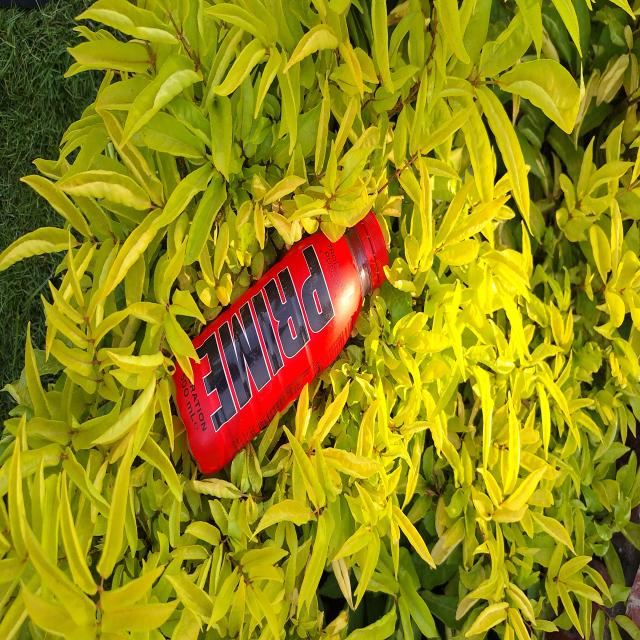Prime - Shitass: (171, 208, 387, 471)
